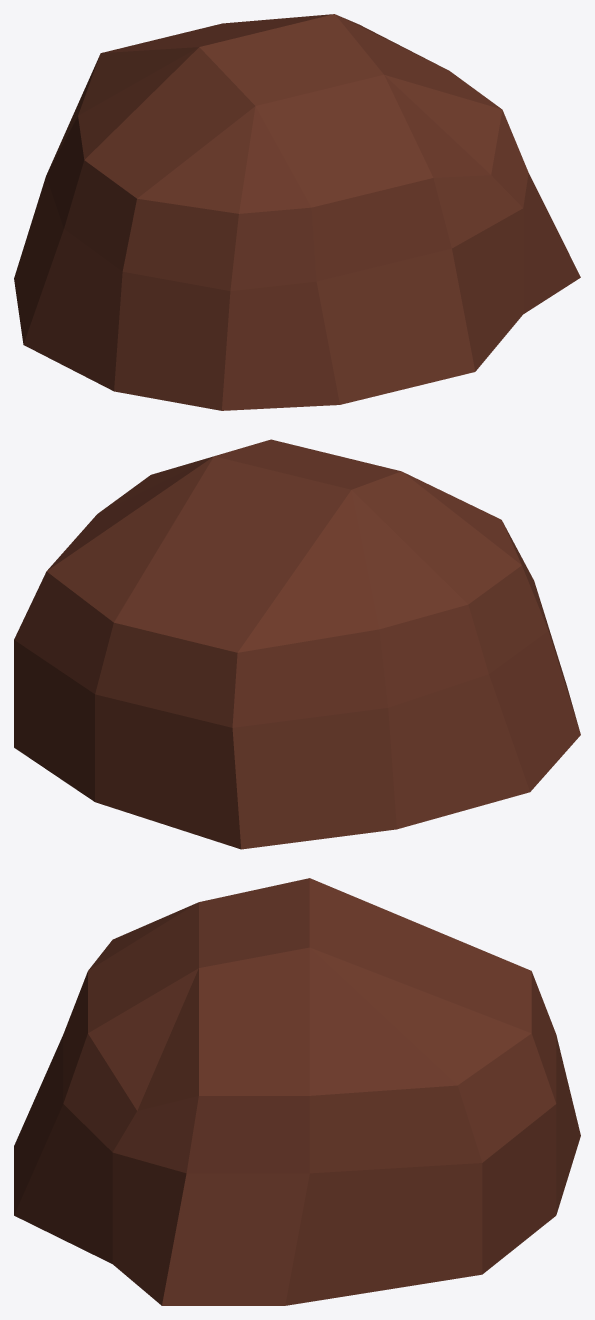
Rendered from Rock 2.fbx.
3 views of the same model, one above another, from view 1: azimuth 30°, elevation 25°; view 2: azimuth 150°, elevation 25°; view 3: azimuth 270°, elevation 25° (orthographic). The views are drawn at different scales.
Visible parts, largest first — view 1: Rock 2; view 2: Rock 2; view 3: Rock 2.
Part boxes in pixels (x1=…): Rock 2: x1=14, y1=14, x2=580, y2=410; Rock 2: x1=14, y1=439, x2=580, y2=849; Rock 2: x1=14, y1=878, x2=580, y2=1305.
Size of the model in its own units: 240 by 120 by 230.
